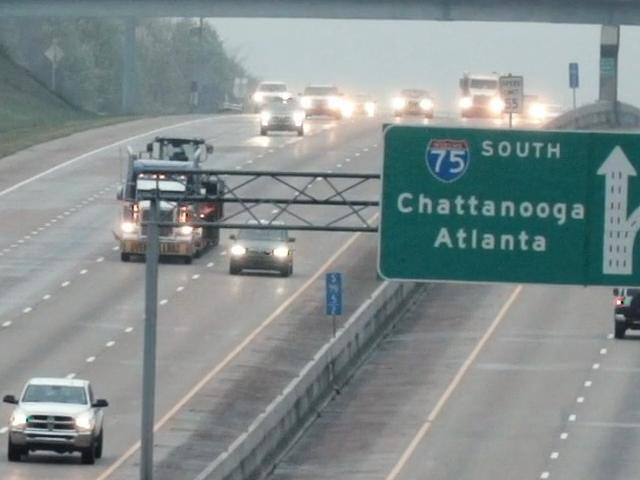car: (3, 377, 110, 465), (225, 218, 295, 278), (256, 97, 305, 135), (611, 286, 640, 341)
truck: (128, 132, 217, 265), (459, 72, 502, 120)
